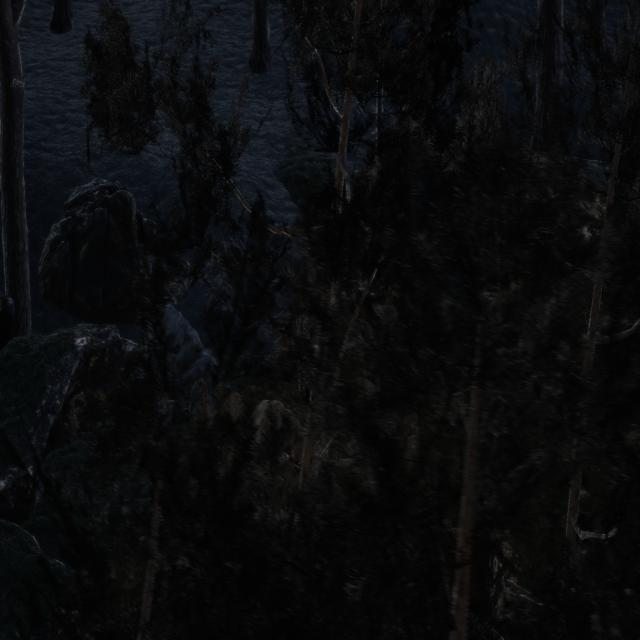Human: (291, 307, 314, 412)
